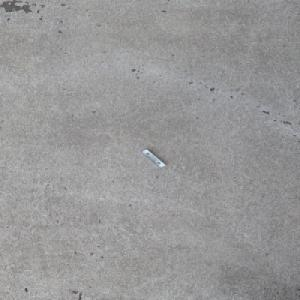ClampPart: (140, 148, 167, 168)
